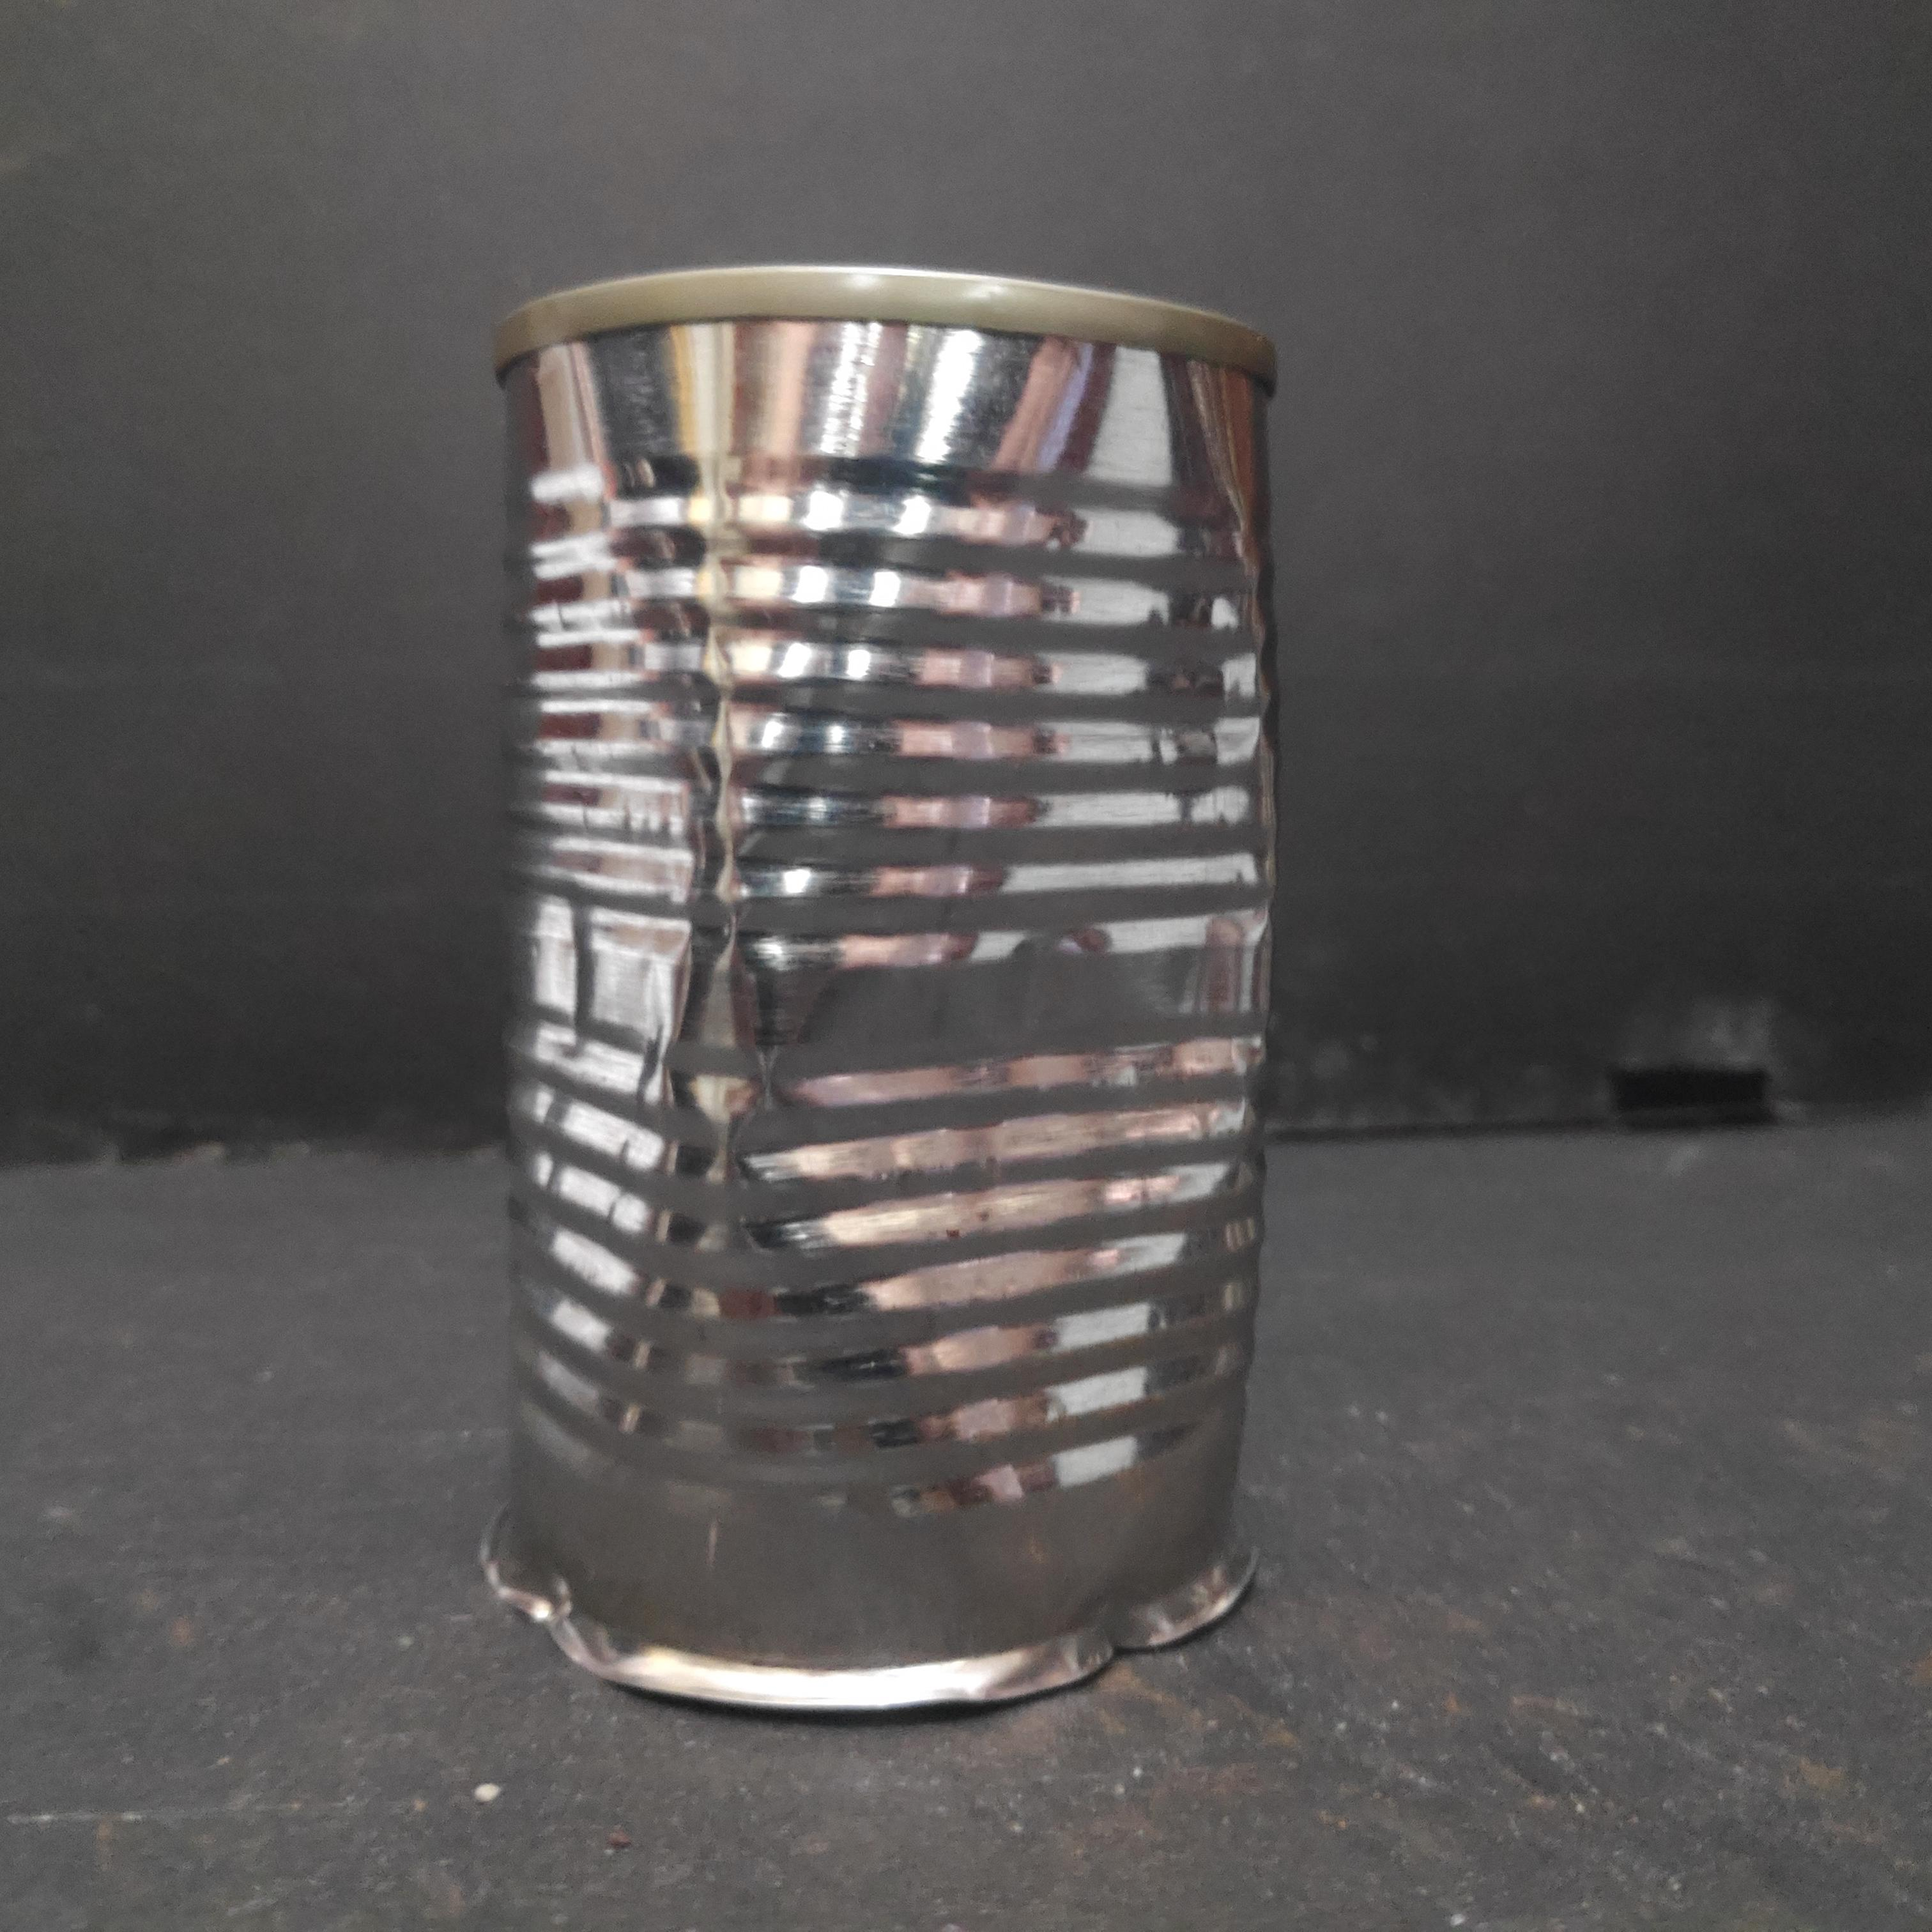Minor Defect: (479, 257, 1307, 1723)
